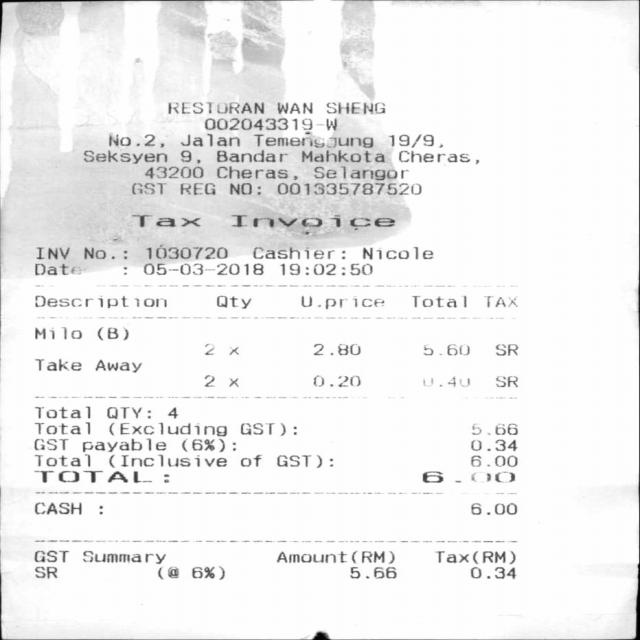text: (229, 214, 395, 227), (203, 117, 311, 134), (34, 294, 165, 308), (252, 133, 372, 148), (108, 453, 226, 468), (277, 182, 420, 194), (108, 422, 226, 436), (32, 470, 154, 483), (276, 550, 394, 563), (312, 165, 408, 180), (143, 262, 262, 274), (145, 243, 227, 260), (82, 149, 166, 164), (216, 165, 296, 180), (253, 246, 344, 259), (300, 149, 384, 163), (300, 295, 384, 309), (166, 102, 263, 114), (82, 438, 165, 452), (82, 550, 165, 564), (279, 263, 372, 275), (436, 550, 514, 564), (422, 471, 514, 482), (397, 150, 470, 163), (362, 247, 432, 260), (131, 214, 199, 227), (215, 150, 286, 162), (388, 134, 442, 148), (180, 438, 234, 452), (181, 133, 239, 146), (109, 134, 162, 148), (240, 422, 296, 435), (325, 102, 384, 114), (143, 166, 202, 178), (33, 406, 89, 418), (33, 454, 89, 466), (277, 453, 321, 468), (34, 422, 88, 434), (412, 295, 465, 307), (34, 358, 80, 371), (94, 359, 140, 372), (313, 374, 359, 387), (470, 438, 516, 451), (470, 502, 516, 515), (33, 263, 82, 275), (105, 406, 150, 419), (469, 454, 516, 466), (34, 327, 80, 339), (313, 343, 359, 355), (34, 502, 80, 514), (349, 566, 395, 578), (469, 566, 515, 578), (472, 422, 516, 434), (422, 344, 468, 355), (422, 376, 468, 386), (179, 182, 214, 195), (35, 247, 69, 260), (216, 295, 250, 308), (32, 438, 68, 450), (32, 550, 68, 562), (276, 102, 311, 114), (130, 182, 165, 194), (95, 326, 127, 339), (191, 566, 223, 579), (205, 343, 238, 355), (204, 374, 237, 386), (228, 182, 260, 194), (486, 295, 516, 307), (83, 247, 107, 259), (179, 150, 199, 164), (33, 566, 56, 578), (494, 375, 516, 387), (157, 566, 177, 579), (494, 344, 517, 355), (240, 454, 260, 466), (324, 118, 336, 130), (166, 407, 177, 418), (98, 506, 102, 514)
